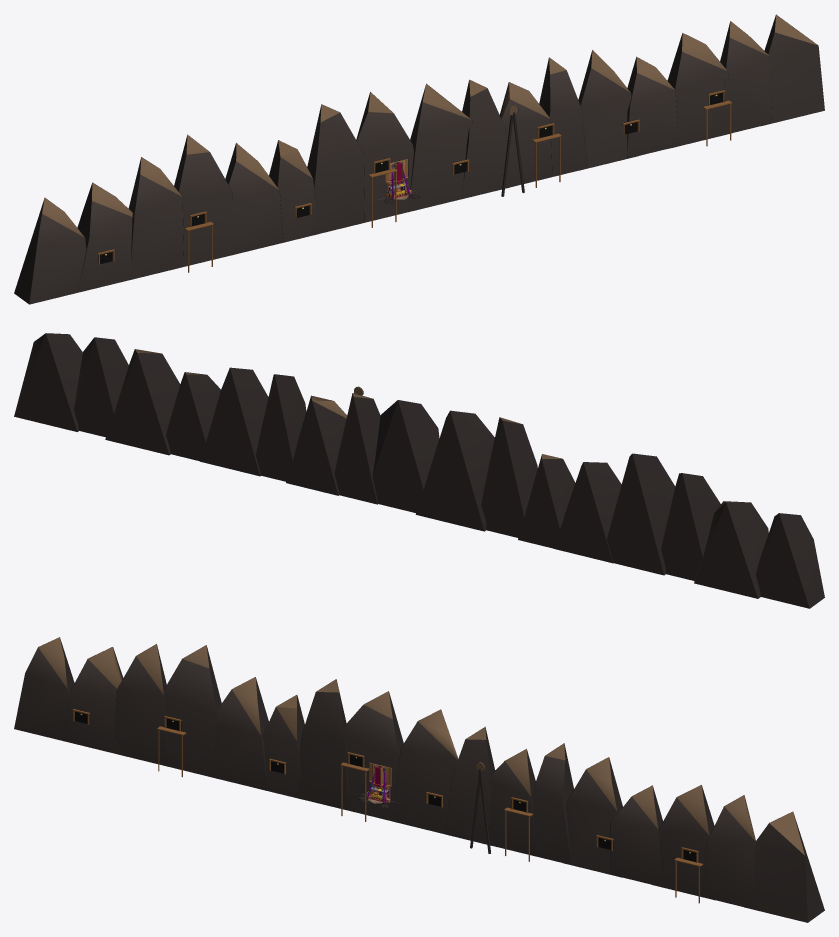
The model's file is fps-kit-coalmine.glb.
3 renders of one model, top to bottom at view 1: azimuth 30°, elevation 25°; view 2: azimuth 150°, elevation 25°; view 3: azimuth 330°, elevation 25°, orthographic.
Visible parts, largest first — view 1: KIT_COALMINE_Backdrop_Cavern; view 2: KIT_COALMINE_Backdrop_Cavern; view 3: KIT_COALMINE_Backdrop_Cavern.
Part boxes in pixels (<box>): KIT_COALMINE_Backdrop_Cavern: <box>14,14,824,304</box>; KIT_COALMINE_Backdrop_Cavern: <box>14,333,824,608</box>; KIT_COALMINE_Backdrop_Cavern: <box>14,637,824,922</box>.
Bounding box in the file's own units: 243 × 33.43 × 14.6.
Materials: 1 (1 with a texture image).
